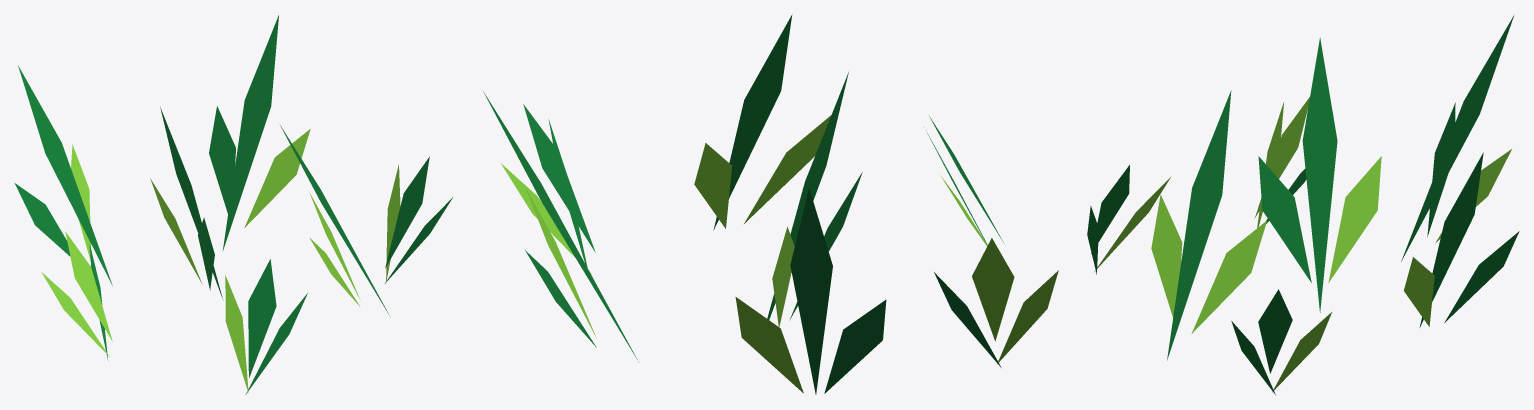
The model's file is grass_1.gltf.
3 renders of one model, left to right at view 1: azimuth 30°, elevation 25°; view 2: azimuth 150°, elevation 25°; view 3: azimuth 270°, elevation 25°, orthographic. The views are drawn at different scales.
Parts seen in each view (by area): view 1: plane (×20); view 2: plane (×17); view 3: plane (×20).
Part boxes in pixels (bbox=[...]): plane (×20): bbox=[14, 15, 452, 394]; plane (×17): bbox=[483, 14, 1058, 394]; plane (×20): bbox=[1087, 15, 1519, 394].
Bounding box in the file's own units: 0.9164 × 0.4846 × 0.7746.
Materials: 1 (1 with a texture image).
